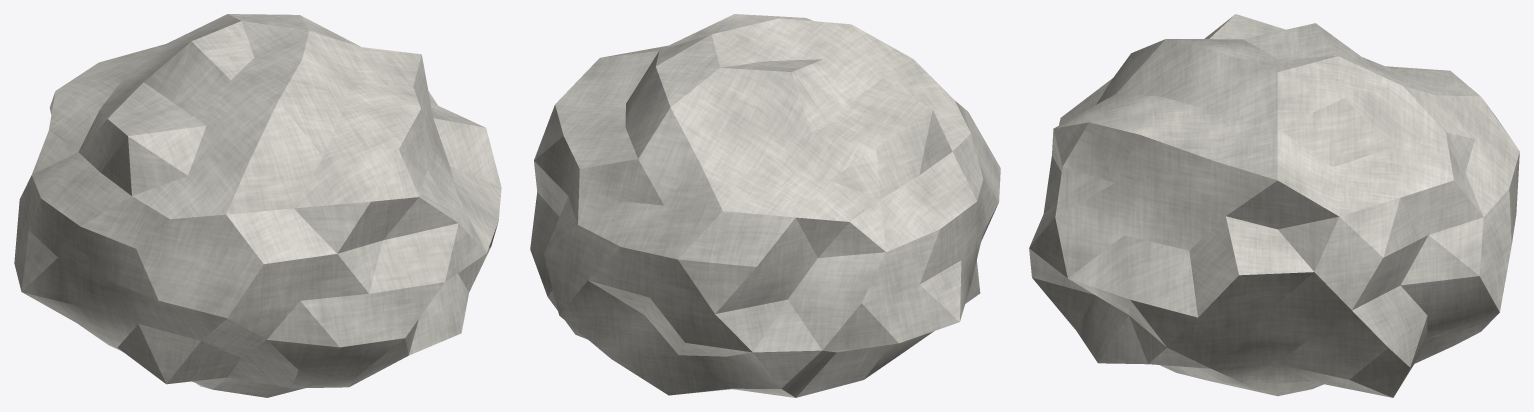
File: paper_rock_00.gltf
The picture shows the model from 3 angles, left to right: view 1: azimuth 30°, elevation 25°; view 2: azimuth 150°, elevation 25°; view 3: azimuth 270°, elevation 25°; orthographic projection. The views are drawn at different scales.
Parts seen in each view (by area): view 1: paper_rock_00; view 2: paper_rock_00; view 3: paper_rock_00.
Part boxes in pixels (left/top/right/bottom): paper_rock_00: left=14, top=14, right=501, bottom=397; paper_rock_00: left=530, top=14, right=1000, bottom=397; paper_rock_00: left=1029, top=14, right=1519, bottom=397.
Bounding box in the file's own units: 0.6402 × 0.4761 × 0.6252.
Materials: 1 (1 with a texture image).
